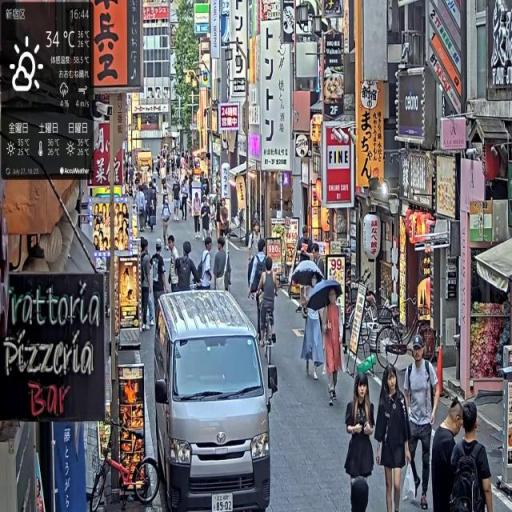person: (405, 331, 441, 511), (375, 364, 413, 512), (449, 400, 494, 512), (344, 374, 378, 512), (431, 397, 466, 512), (320, 290, 345, 408), (253, 250, 280, 348), (173, 240, 202, 292), (139, 239, 155, 332), (214, 236, 233, 294), (166, 232, 182, 294), (199, 236, 216, 292), (193, 193, 203, 239), (173, 177, 182, 220)
